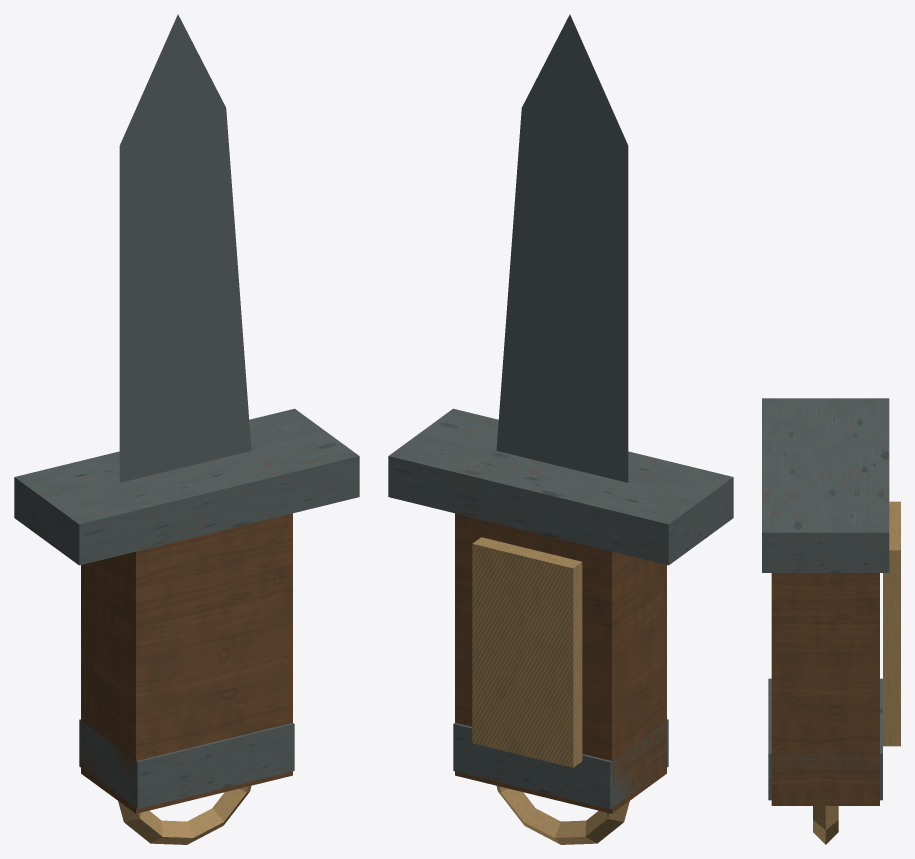
File: pr-018_knife_cutting_tool__clean.obj
3 renders of one model, left to right at view 1: azimuth 30°, elevation 25°; view 2: azimuth 150°, elevation 25°; view 3: azimuth 270°, elevation 25°, orthographic.
Parts seen in each view (by area): view 1: pr-018_knife_cutting_tool__clean; view 2: pr-018_knife_cutting_tool__clean; view 3: pr-018_knife_cutting_tool__clean.
Part boxes in pixels (x1,y1,x2,y2): pr-018_knife_cutting_tool__clean: [14, 14, 359, 844]; pr-018_knife_cutting_tool__clean: [388, 14, 733, 844]; pr-018_knife_cutting_tool__clean: [762, 398, 900, 844].
Bounding box in the file's own units: 0.1197 × 0.34 × 0.0522.
3 materials, 3 textured.
